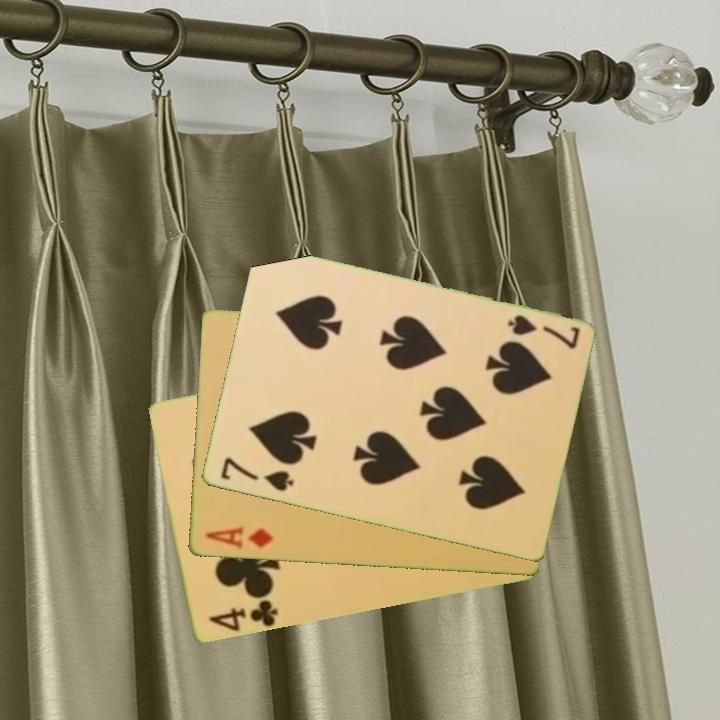4c: (204, 596, 281, 634)
7s: (503, 311, 582, 353), (216, 454, 296, 495)
Ad: (201, 523, 276, 552)
